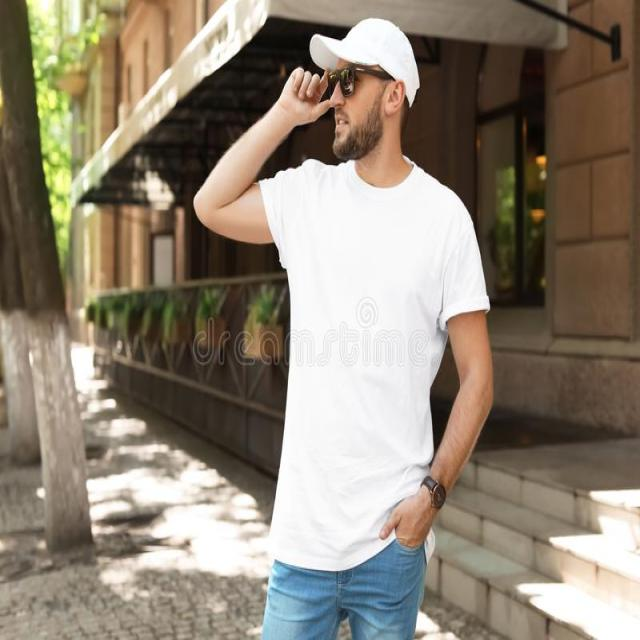cap: (308, 13, 424, 166)
